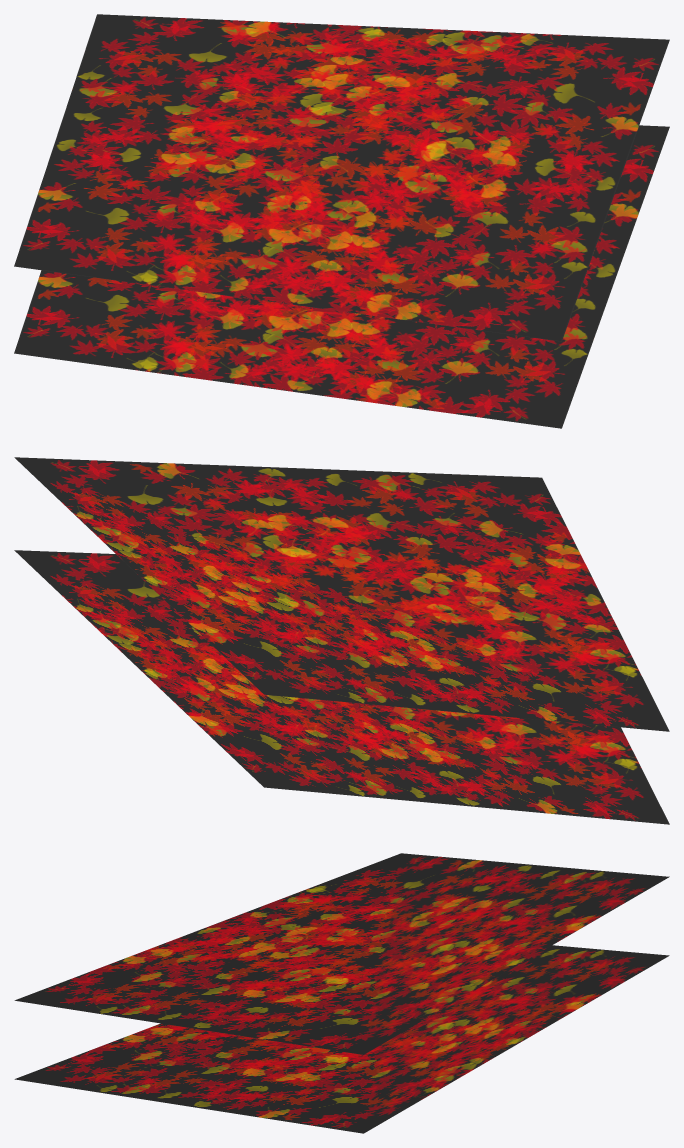
The model's file is CourseAki_CurveFloor_3_24.fbx.
The picture shows the model from 3 angles, top to bottom: view 1: azimuth 30°, elevation 25°; view 2: azimuth 150°, elevation 25°; view 3: azimuth 270°, elevation 25°; orthographic projection. The views are drawn at different scales.
Parts seen in each view (by area): view 1: polySurface473; view 2: polySurface473; view 3: polySurface473.
Part boxes in pixels (box(x1,y1,x2,y2)): polySurface473: box(14, 14, 669, 428); polySurface473: box(14, 457, 669, 824); polySurface473: box(14, 853, 669, 1133).
Size of the model in its own units: 7.64 by 2 by 7.55.
Materials: 1 (1 with a texture image).
